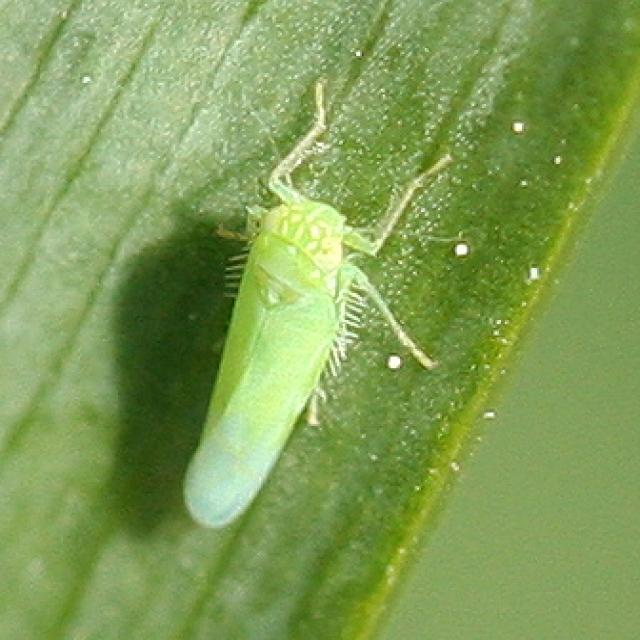Yechan: (169, 80, 440, 532)
